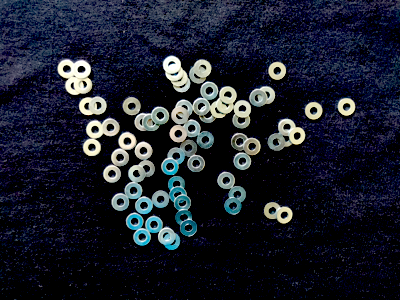circle: (303, 101, 324, 122), (338, 97, 358, 118), (56, 59, 77, 79), (200, 82, 220, 102), (89, 97, 109, 117), (72, 60, 92, 80), (187, 154, 206, 175), (79, 98, 98, 119), (65, 76, 84, 97), (150, 190, 172, 208), (242, 138, 262, 157), (193, 59, 213, 78), (111, 193, 130, 213), (125, 182, 144, 202), (104, 166, 123, 186), (111, 149, 130, 169), (118, 132, 137, 152), (86, 120, 106, 139), (276, 130, 297, 148), (224, 197, 243, 216), (169, 125, 188, 144), (175, 100, 194, 119), (167, 147, 186, 166), (161, 158, 180, 177), (174, 194, 193, 213), (123, 98, 142, 117), (157, 227, 176, 246), (163, 233, 182, 252), (135, 142, 154, 161), (84, 139, 103, 158), (259, 86, 277, 106), (167, 176, 187, 194), (175, 209, 195, 227), (180, 220, 200, 238), (134, 228, 152, 248), (128, 164, 146, 184), (169, 187, 190, 204), (234, 153, 252, 172), (231, 133, 249, 152), (269, 62, 287, 81), (234, 99, 252, 118), (190, 67, 209, 85), (183, 120, 202, 138), (171, 107, 190, 125), (163, 56, 182, 74), (165, 64, 184, 82), (134, 113, 152, 132), (135, 197, 154, 215), (126, 212, 144, 231), (145, 216, 163, 235), (102, 119, 120, 138), (268, 133, 285, 153), (169, 70, 189, 87), (74, 78, 94, 95), (229, 186, 247, 204), (250, 90, 268, 108), (233, 112, 251, 130), (219, 86, 237, 104), (216, 97, 234, 115), (210, 102, 228, 120), (198, 131, 216, 149), (289, 127, 306, 146), (278, 119, 297, 136), (217, 173, 236, 190), (200, 105, 217, 124), (173, 77, 192, 94), (152, 106, 169, 125), (144, 114, 160, 134), (180, 140, 198, 157), (139, 161, 156, 179), (277, 206, 293, 225), (264, 203, 283, 219), (194, 98, 210, 117)
